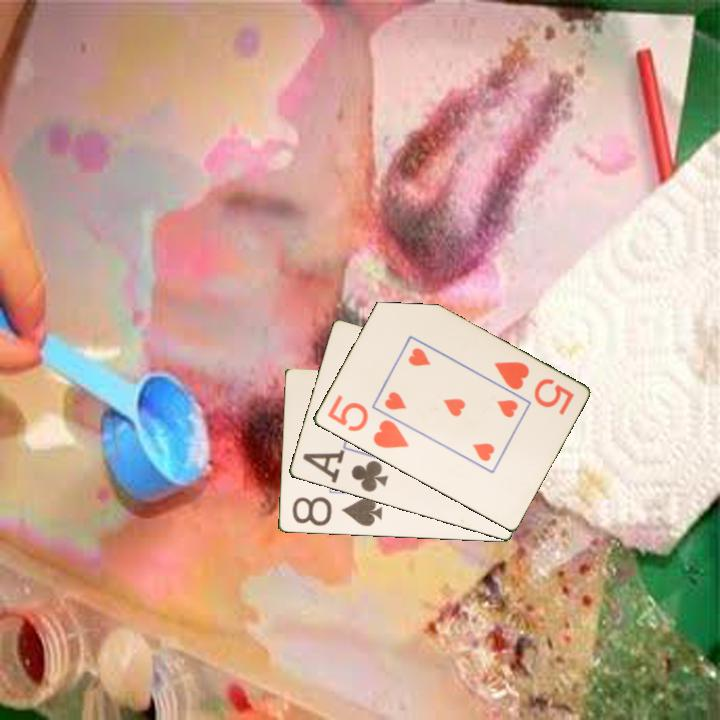5h: (323, 391, 411, 452), (490, 358, 577, 418)
8s: (288, 494, 385, 529)
Ac: (299, 447, 391, 495)
